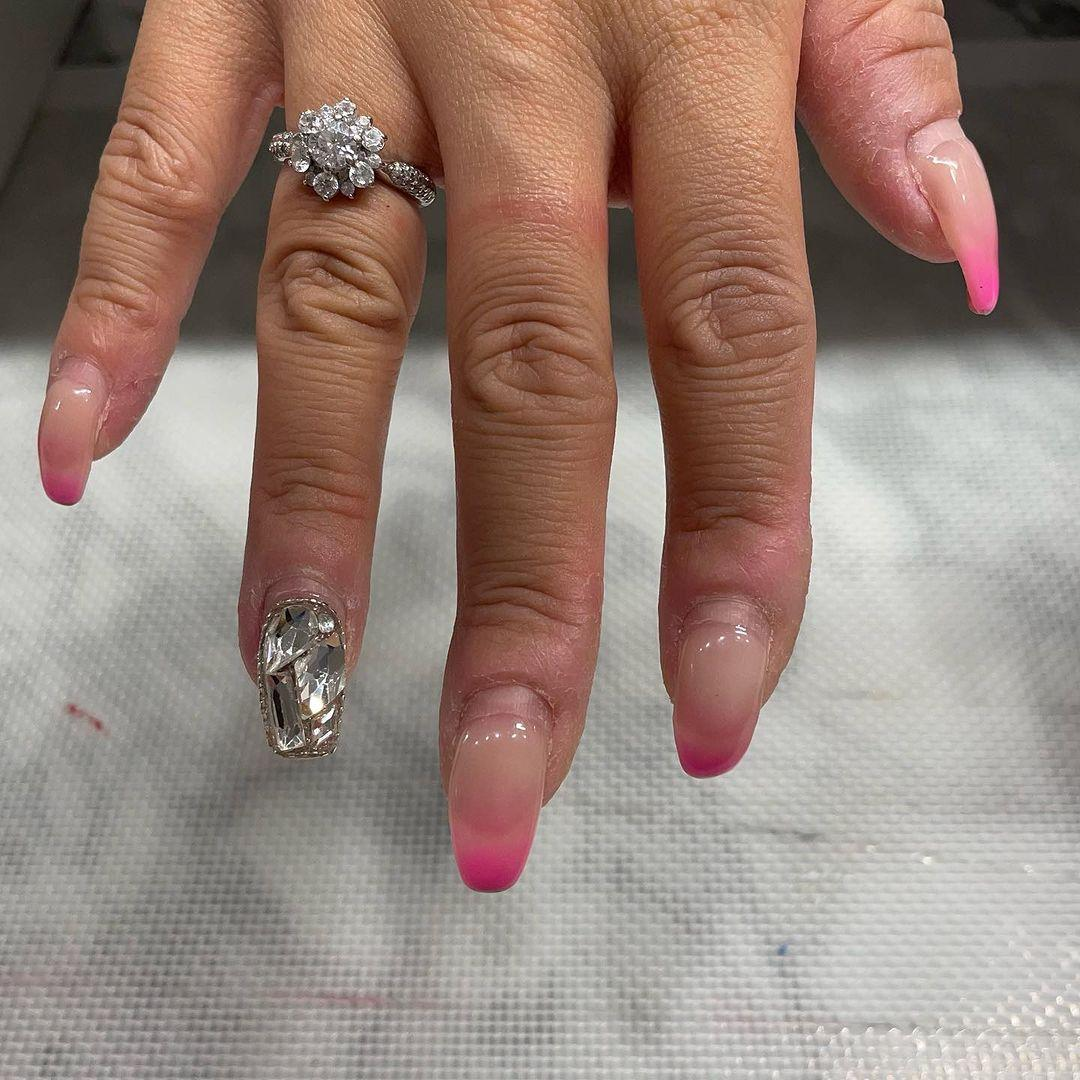nail: (445, 681, 553, 893), (669, 591, 773, 779), (906, 118, 1001, 316), (254, 593, 348, 758), (36, 354, 107, 506)
